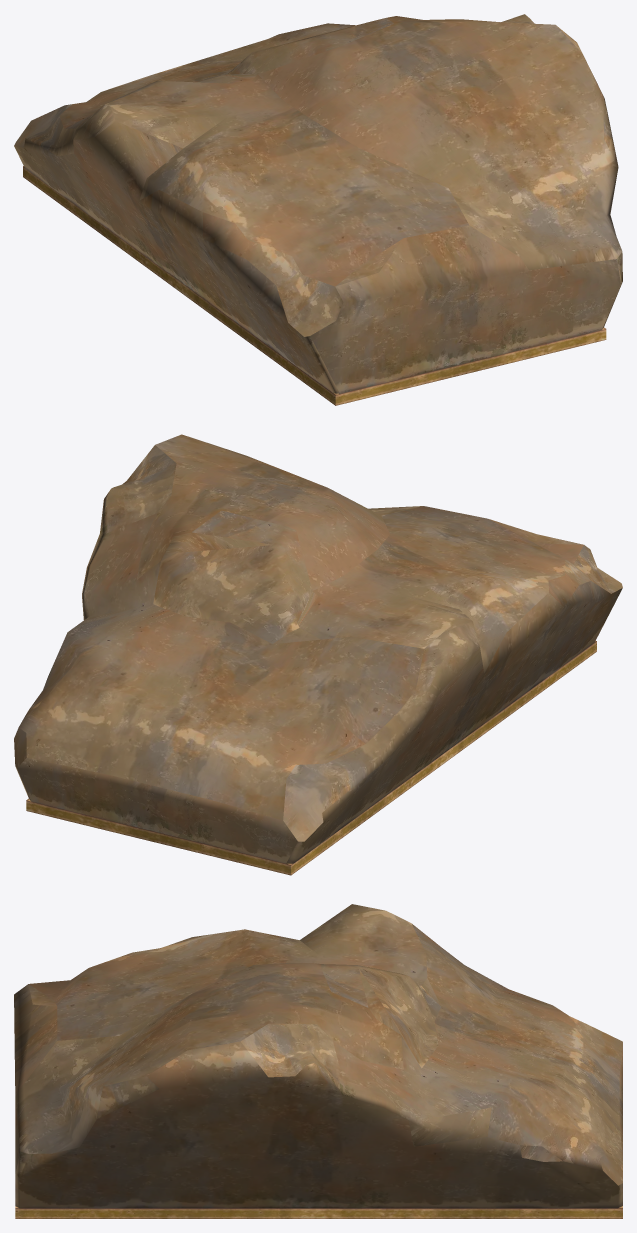
3 views of the same model, one above another, from view 1: azimuth 30°, elevation 25°; view 2: azimuth 150°, elevation 25°; view 3: azimuth 270°, elevation 25° (orthographic). The views are drawn at different scales.
Parts seen in each view (by area): view 1: SM_DK_Crumbled_WallTop_05_LOD0; view 2: SM_DK_Crumbled_WallTop_05_LOD0; view 3: SM_DK_Crumbled_WallTop_05_LOD0.
Part boxes in pixels (bbox=[...]): SM_DK_Crumbled_WallTop_05_LOD0: bbox=[14, 14, 622, 405]; SM_DK_Crumbled_WallTop_05_LOD0: bbox=[14, 434, 622, 875]; SM_DK_Crumbled_WallTop_05_LOD0: bbox=[14, 904, 622, 1218].
Bounding box in the file's own units: 3.04 × 1.52 × 4.01.
Materials: 1 (1 with a texture image).
